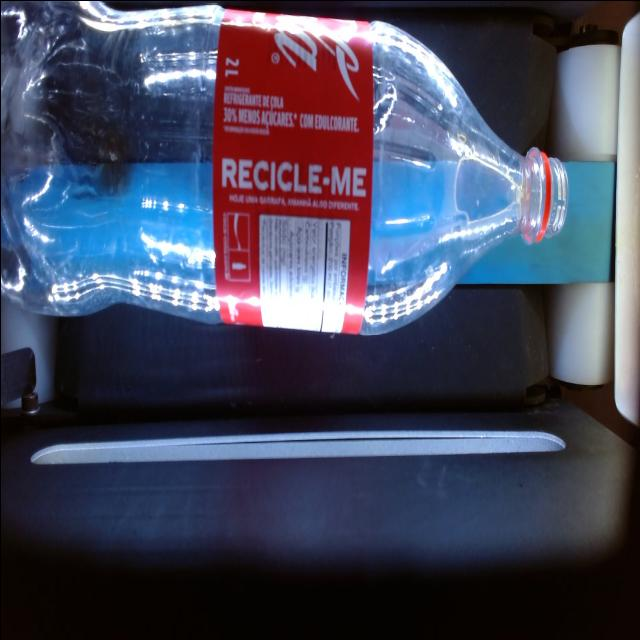bottle: (0, 3, 567, 334)
